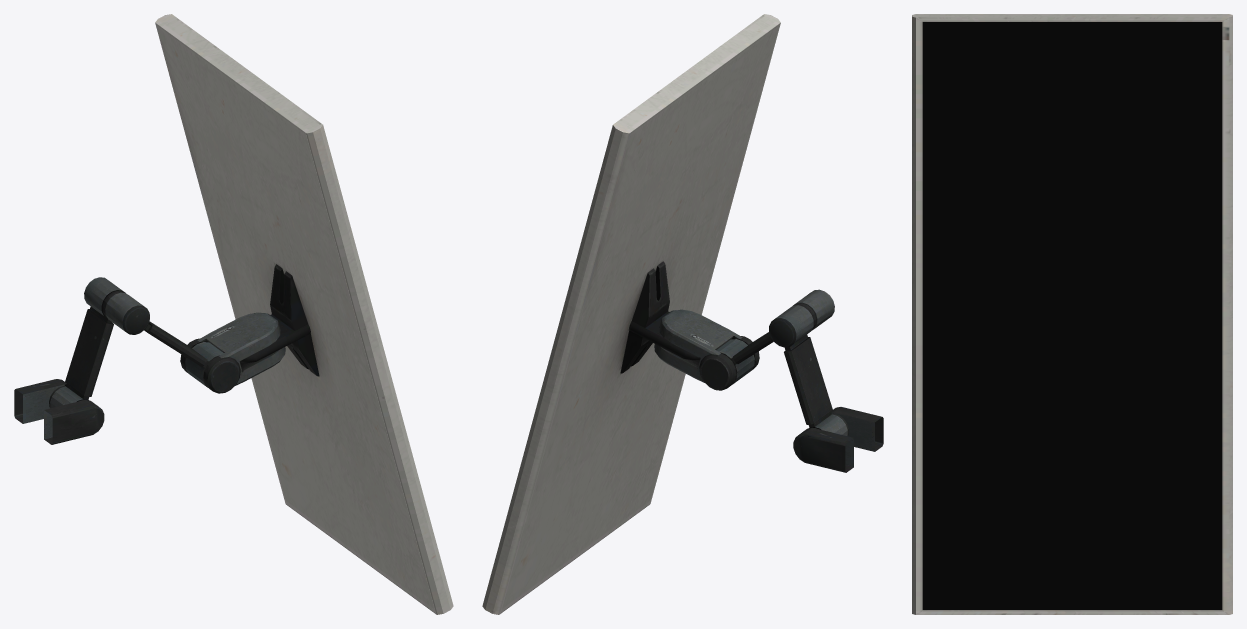
File: lab_monitor_02.obj
3 renders of one model, left to right at view 1: azimuth 30°, elevation 25°; view 2: azimuth 150°, elevation 25°; view 3: azimuth 270°, elevation 25°, orthographic. The views are drawn at different scales.
Visible parts, largest first — view 1: wavefront obj; view 2: wavefront obj; view 3: wavefront obj.
Part boxes in pixels (bbox=[...]): wavefront obj: bbox=[14, 14, 453, 614]; wavefront obj: bbox=[482, 14, 883, 614]; wavefront obj: bbox=[912, 14, 1232, 614].
Size of the model in its own units: 29.73 by 45.21 by 24.52.
Materials: 1 (1 with a texture image).
